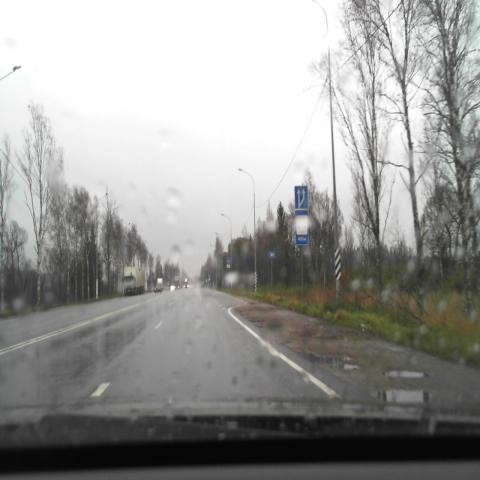7_12: (295, 210, 309, 246)
